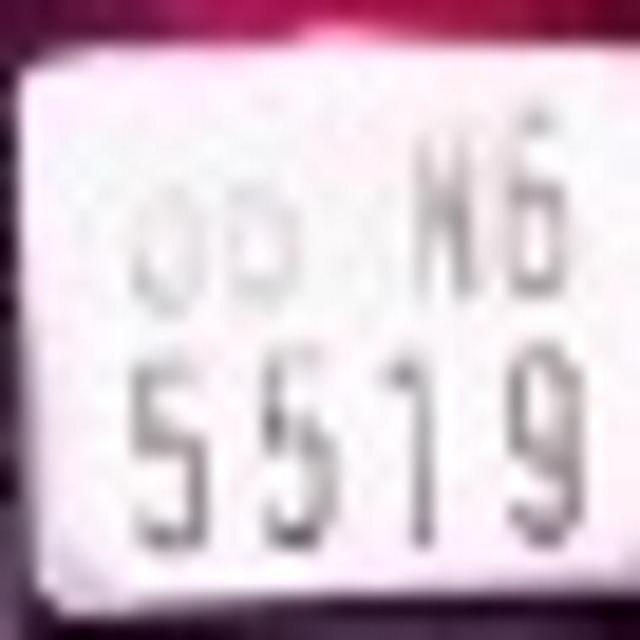1: (391, 324, 454, 554)
5: (255, 332, 340, 556), (122, 353, 216, 554)
6: (502, 112, 574, 298)
9: (503, 328, 593, 560)
H: (408, 106, 480, 304)
